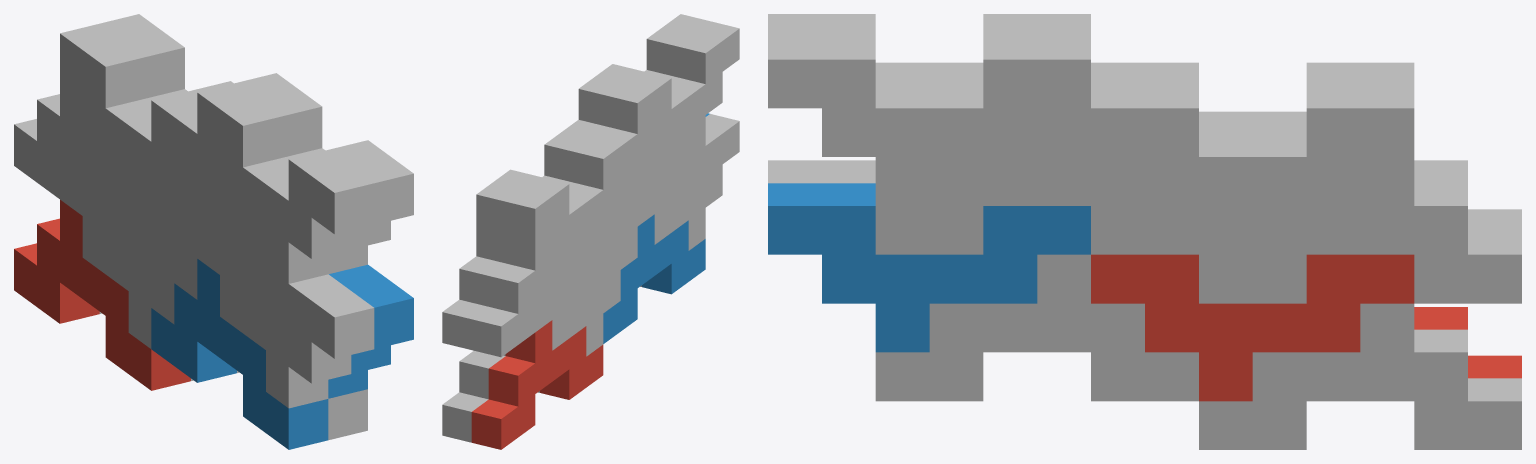
File: tiling.obj
3 views of the same model, side by side, from view 1: azimuth 30°, elevation 25°; view 2: azimuth 150°, elevation 25°; view 3: azimuth 270°, elevation 25° (orthographic). The views are drawn at different scales.
Visible parts, largest first — view 1: copy_2_domain_4, copy_2_domain_3, copy_2_domain_2, copy_1_domain_2, copy_1_domain_1, copy_1_domain_3, copy_2_domain_1, copy_1_domain_4, copy_2_domain_8, copy_2_domain_6, copy_2_domain_7, copy_1_domain_6; view 2: copy_2_domain_3, copy_2_domain_4, copy_1_domain_1, copy_1_domain_3, copy_2_domain_2, copy_1_domain_2, copy_1_domain_4, copy_2_domain_1, copy_2_domain_8, copy_2_domain_7, copy_1_domain_7, copy_1_domain_5; view 3: copy_2_domain_8, copy_2_domain_7, copy_2_domain_6, copy_1_domain_5, copy_1_domain_7, copy_1_domain_6, copy_2_domain_5, copy_1_domain_8, copy_2_domain_3, copy_2_domain_4, copy_2_domain_2, copy_1_domain_1 (+1 smaller).
Boxes of the visible parts, <box> form: copy_2_domain_4: <box>197,83,374,283</box>; copy_2_domain_3: <box>60,23,197,224</box>; copy_2_domain_2: <box>197,217,374,408</box>; copy_1_domain_2: <box>151,259,328,449</box>; copy_1_domain_1: <box>14,200,190,390</box>; copy_1_domain_3: <box>14,75,151,265</box>; copy_2_domain_1: <box>60,158,197,348</box>; copy_1_domain_4: <box>151,134,288,324</box>; copy_2_domain_8: <box>237,73,413,274</box>; copy_2_domain_6: <box>328,264,413,398</box>; copy_2_domain_7: <box>100,14,233,102</box>; copy_1_domain_6: <box>237,371,367,440</box>; copy_2_domain_3: <box>505,127,637,263</box>; copy_2_domain_4: <box>608,21,739,157</box>; copy_1_domain_1: <box>471,320,603,449</box>; copy_1_domain_3: <box>471,227,603,357</box>; copy_2_domain_2: <box>637,114,739,250</box>; copy_1_domain_2: <box>603,214,705,343</box>; copy_1_domain_4: <box>603,122,705,251</box>; copy_2_domain_1: <box>535,227,637,356</box>; copy_2_domain_8: <box>578,14,709,126</box>; copy_2_domain_7: <box>476,119,607,232</box>; copy_1_domain_7: <box>442,225,505,349</box>; copy_1_domain_5: <box>442,351,539,442</box>; copy_2_domain_8: <box>768,36,1090,205</box>; copy_2_domain_7: <box>1091,85,1414,254</box>; copy_2_domain_6: <box>768,183,1090,352</box>; copy_1_domain_5: <box>1199,303,1521,449</box>; copy_1_domain_7: <box>1199,157,1521,303</box>; copy_1_domain_6: <box>875,254,1198,401</box>; copy_2_domain_5: <box>1091,254,1414,401</box>; copy_1_domain_8: <box>875,108,1198,254</box>; copy_2_domain_3: <box>1091,62,1414,134</box>; copy_2_domain_4: <box>768,14,1090,85</box>; copy_2_domain_2: <box>768,160,875,183</box>; copy_1_domain_1: <box>1414,307,1521,378</box>.
Size of the model in its own units: 2 by 8 by 14.
